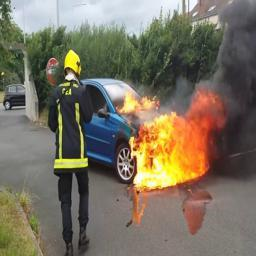fire: (135, 88, 225, 192), (114, 90, 158, 113)
